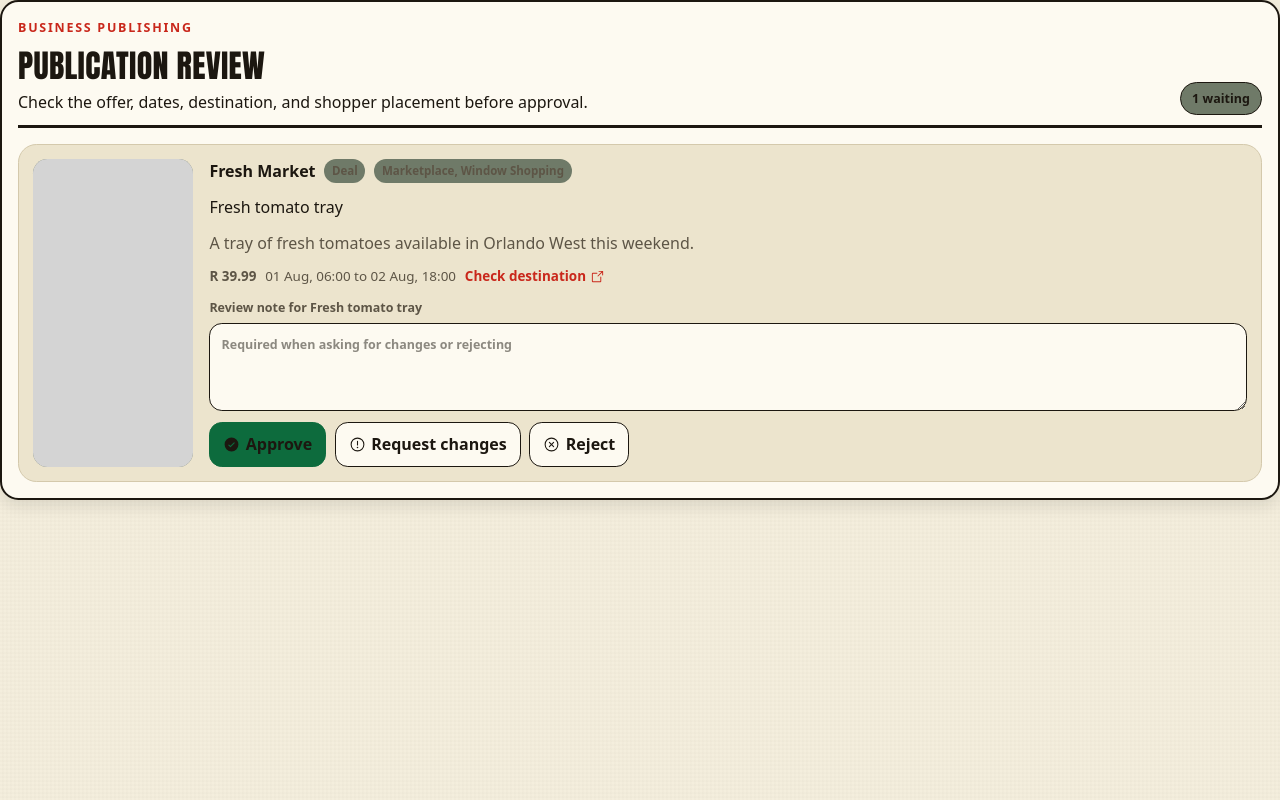
AdminPublicationReview › shows the full offer and approves it with the admin note
Expected: the heading "Fresh tomato tray" is shown, left=209, top=196, right=343, bottom=218
Expected: the text "Fresh Market" is shown, left=209, top=159, right=316, bottom=184
In the text box labelled "Review note for Fresh tomato tray": (728, 367) left=209, top=323, right=1247, bottom=411, type "Price and dates checked."
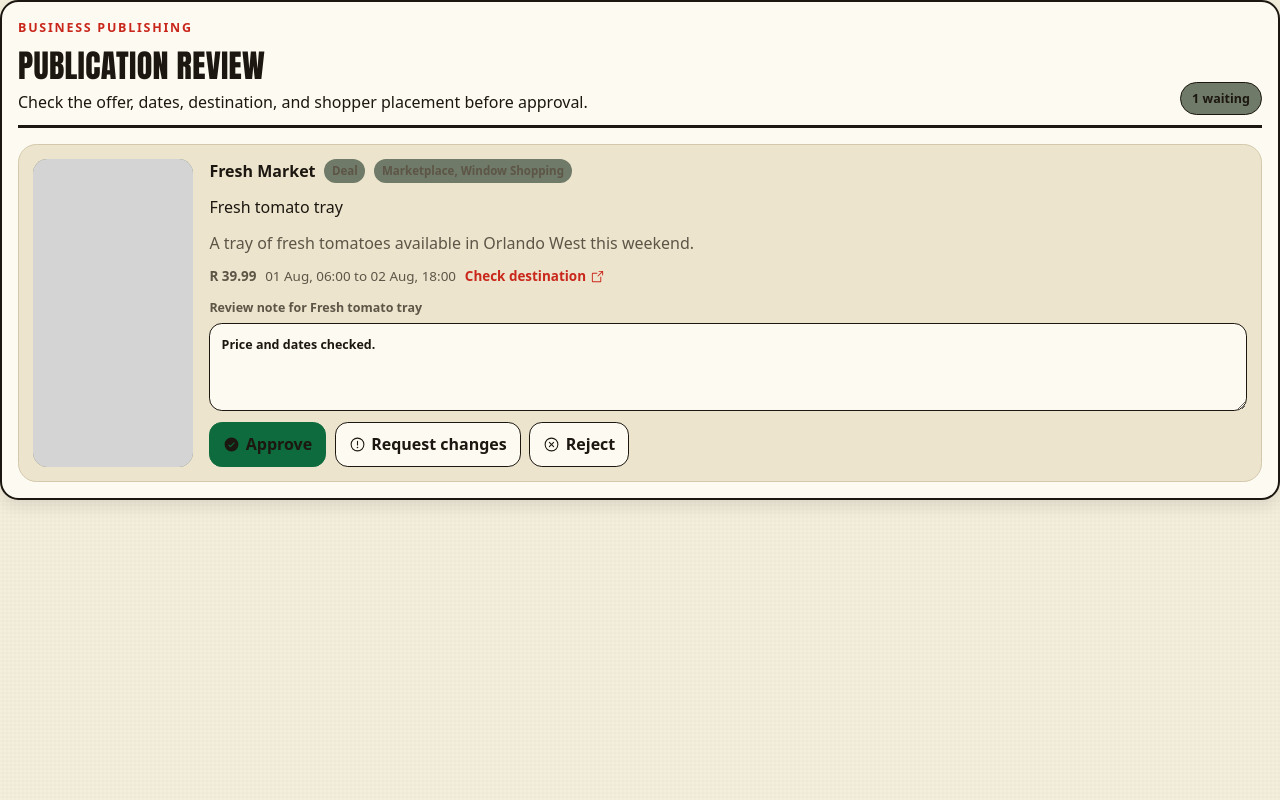
Click the button with aria-label "Approve Fresh tomato tray": (268, 444) left=209, top=422, right=326, bottom=467
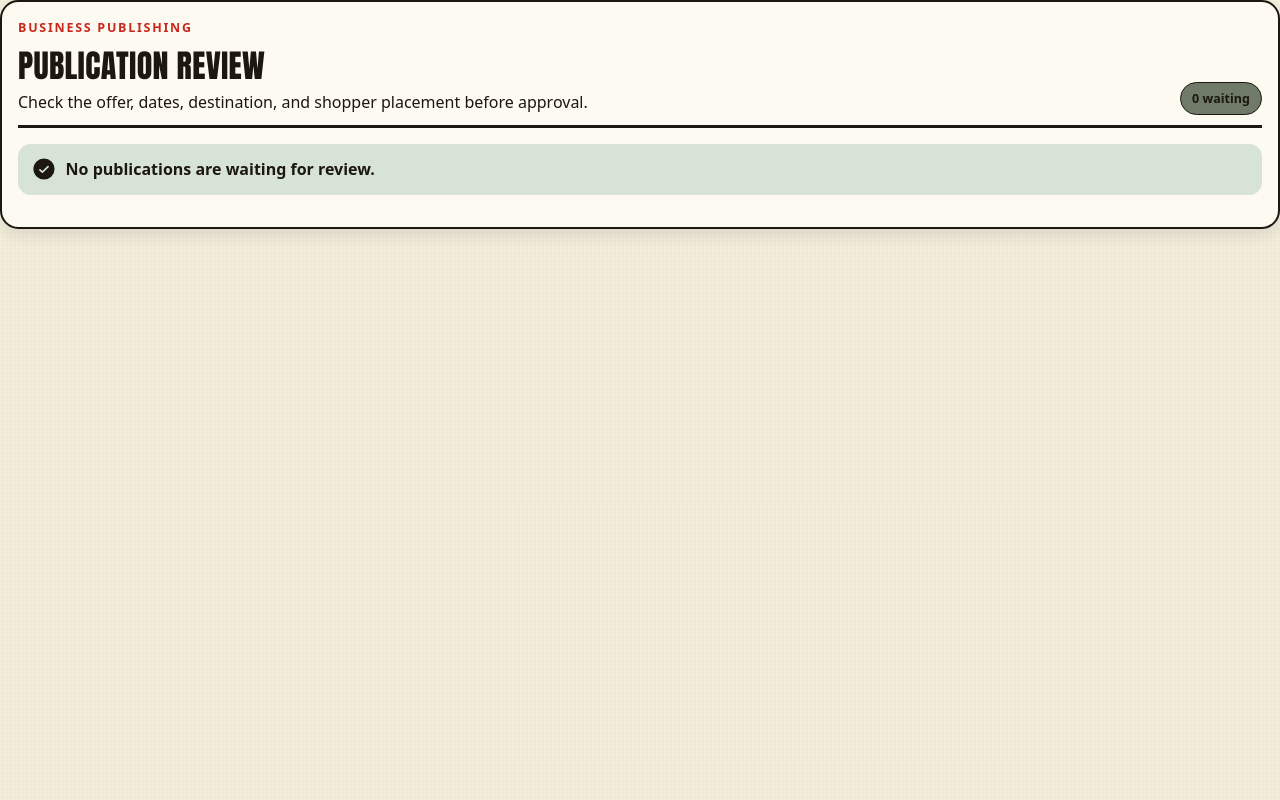
Result: the text "No publications are waiting for review." is shown at left=66, top=157, right=375, bottom=182
